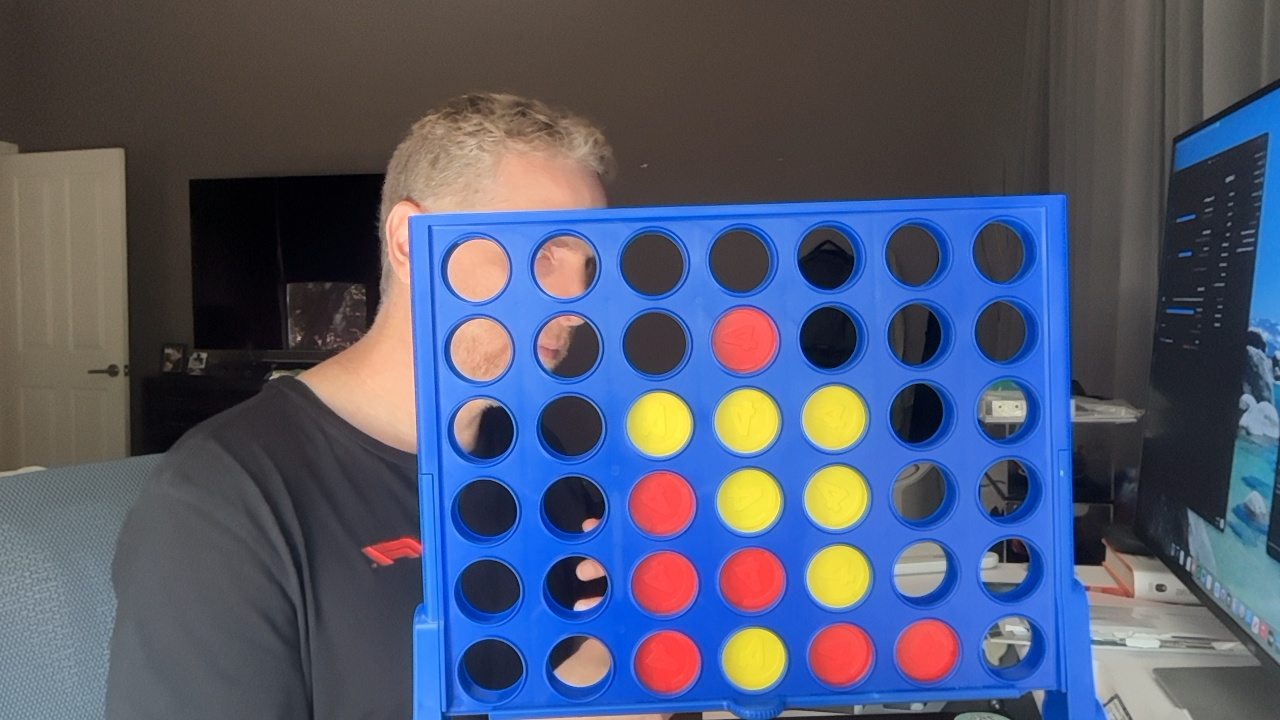red piece: (712, 307, 778, 373), (629, 470, 694, 536), (634, 630, 699, 695), (631, 551, 697, 615), (808, 623, 873, 687), (719, 548, 784, 611), (895, 619, 958, 682)
yellow piece: (714, 388, 780, 454), (626, 391, 692, 457), (802, 384, 867, 450), (717, 468, 781, 533), (721, 627, 786, 691), (806, 544, 870, 609), (804, 465, 868, 529)
